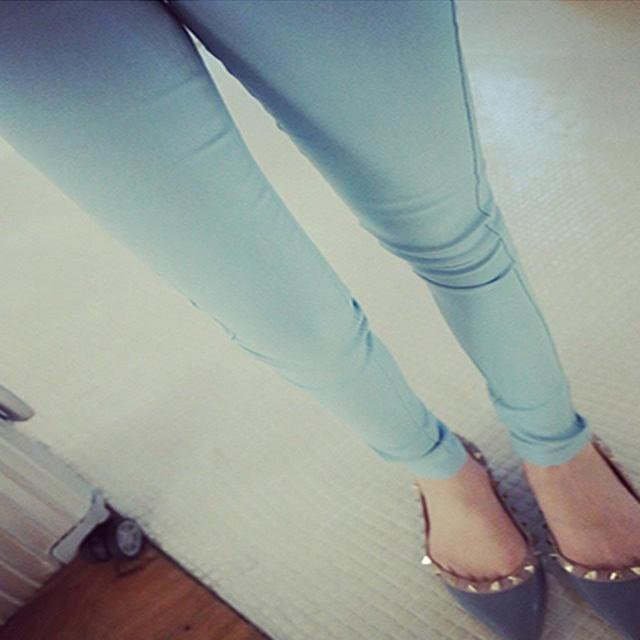trousers: (38, 39, 617, 457)
